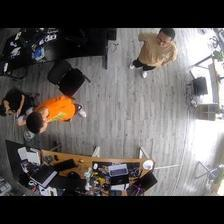normal: (129, 28, 177, 80), (28, 94, 87, 129)
